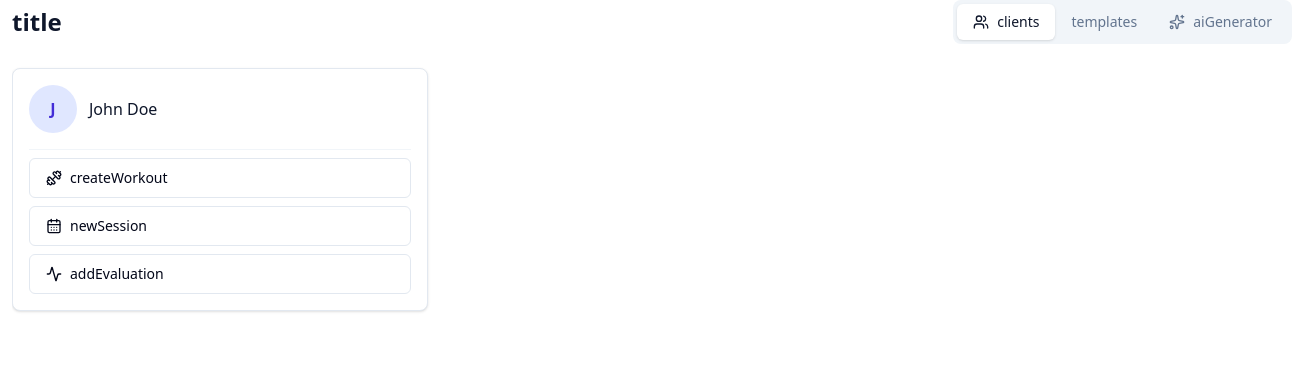
Scenario: Workouts › switches to library tab
The image size is (1292, 386).
Click the tab "templates": click(1104, 22) [1056,4,1153,40]
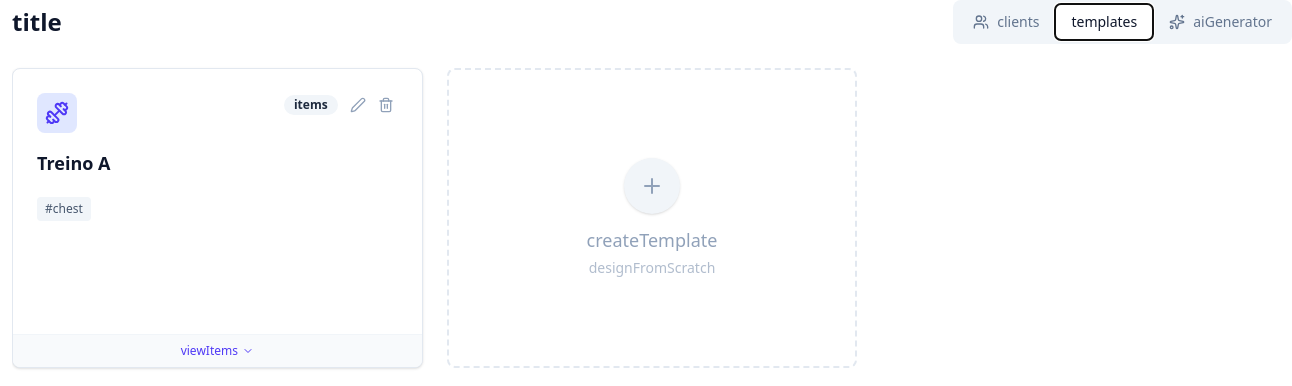
Expected: the element with test id "workout-library" is shown, [12,68,857,368]
